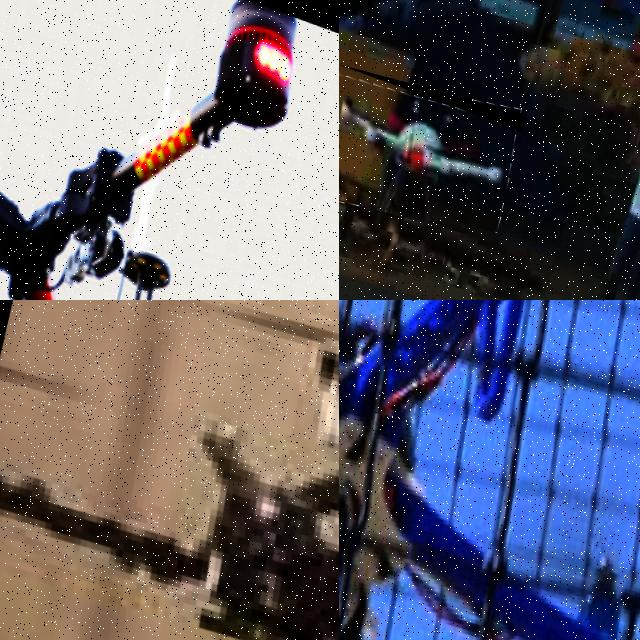drone: (0, 300, 339, 640), (339, 300, 640, 640), (0, 0, 339, 300), (339, 63, 526, 241)
